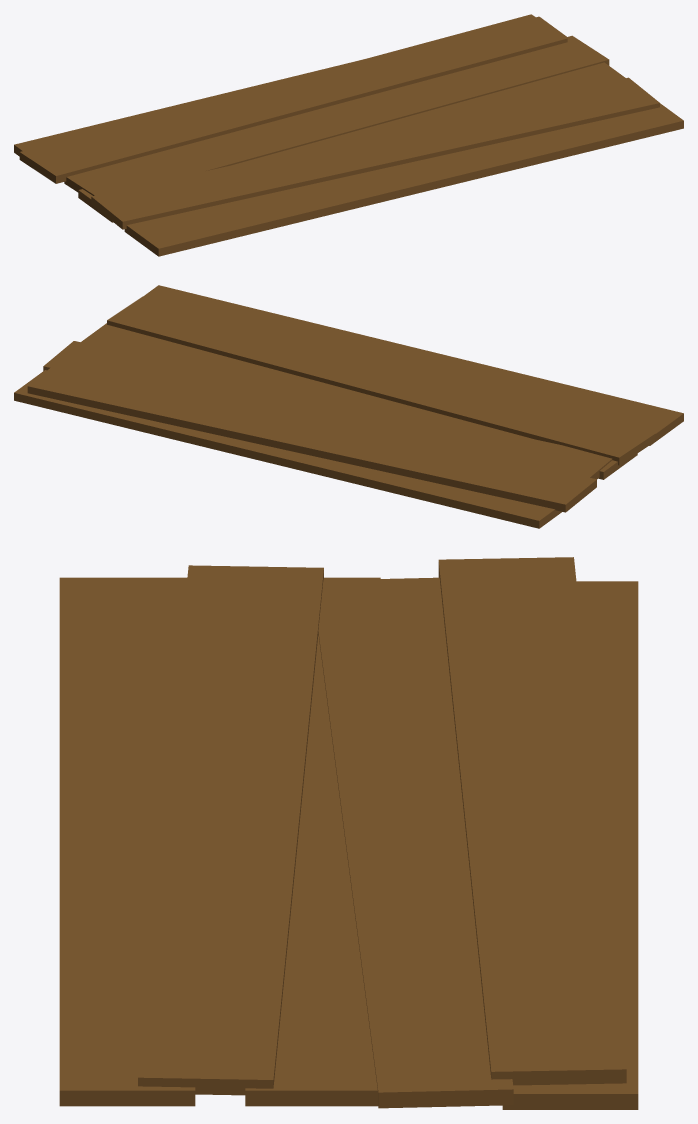
File: board_01_b002.fbx
3 renders of one model, top to bottom at view 1: azimuth 30°, elevation 25°; view 2: azimuth 150°, elevation 25°; view 3: azimuth 270°, elevation 25°, orthographic. The views are drawn at different scales.
Parts seen in each view (by area): view 1: Board_01_b002; view 2: Board_01_b002; view 3: Board_01_b002.
Part boxes in pixels (x1,y1,x2,y2): Board_01_b002: (14,14,683,256); Board_01_b002: (14,285,683,528); Board_01_b002: (59,557,638,1109).
Size of the model in its own units: 48.21 by 22.33 by 1.27.
